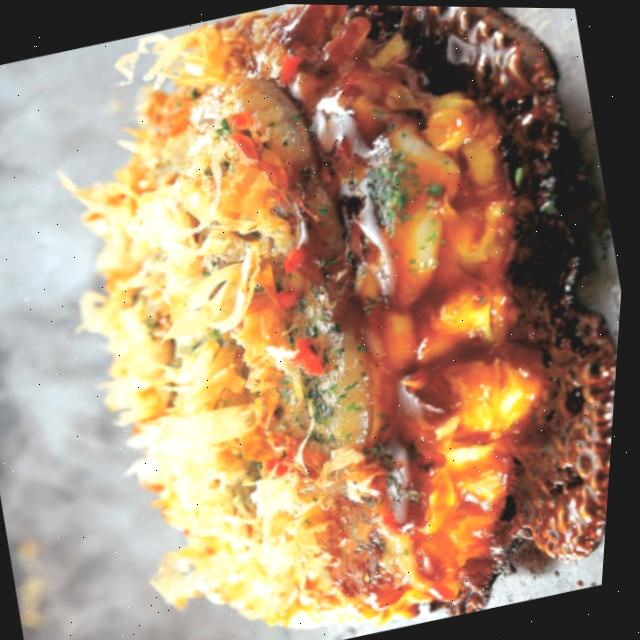蛋糕甜品: (1, 0, 621, 640)
